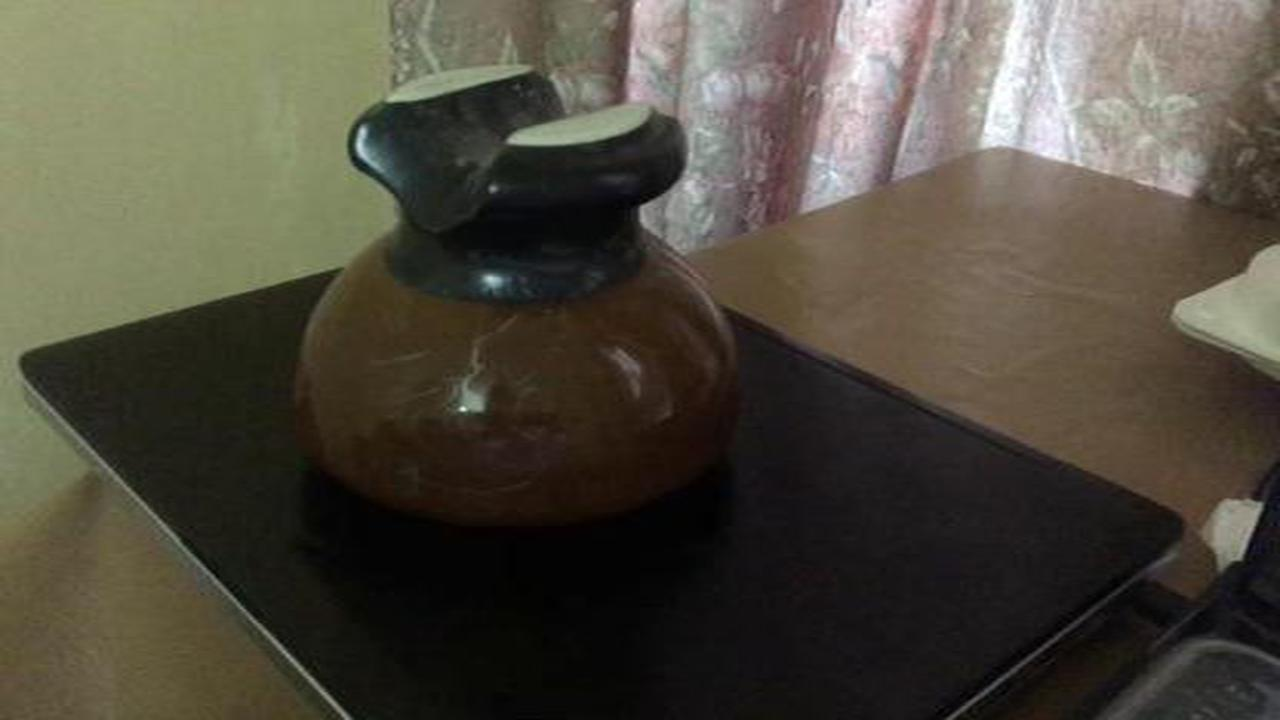insulator_pin: (293, 55, 748, 520)
